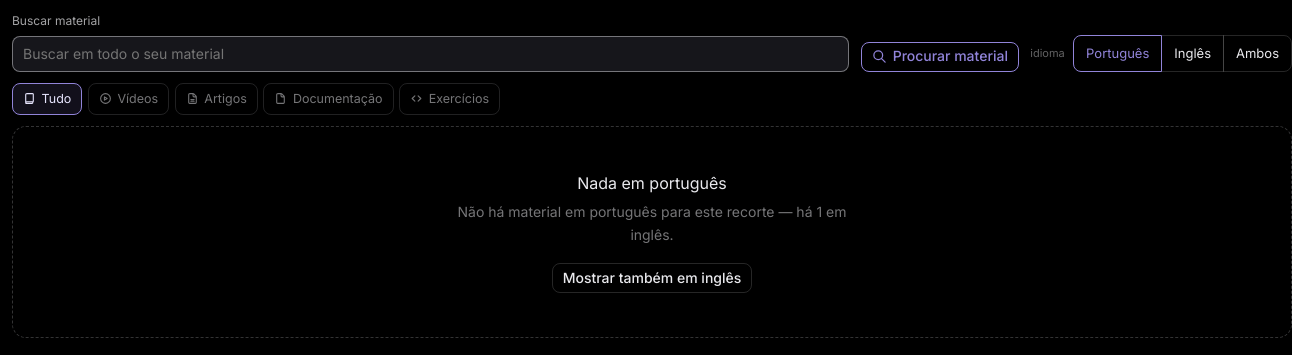
Test: em português sem resultado, diz quantos há em inglês e oferece mostrá-los
expect the text "há 1 em inglês" is shown: met, box [458,203,846,243]
Click the button "Mostrar também em inglês": (652, 278) [552,263,752,293]
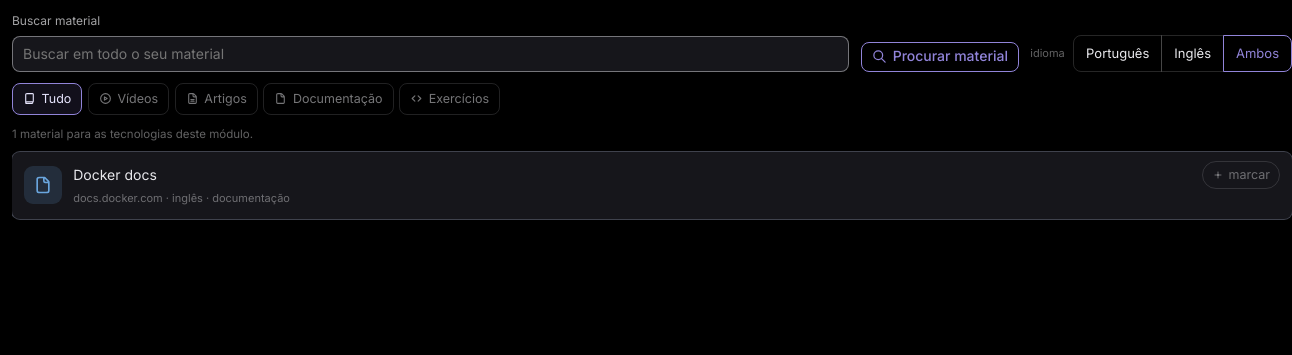
expect the button "Docker docs" is shown: met, box [73,164,1193,186]
